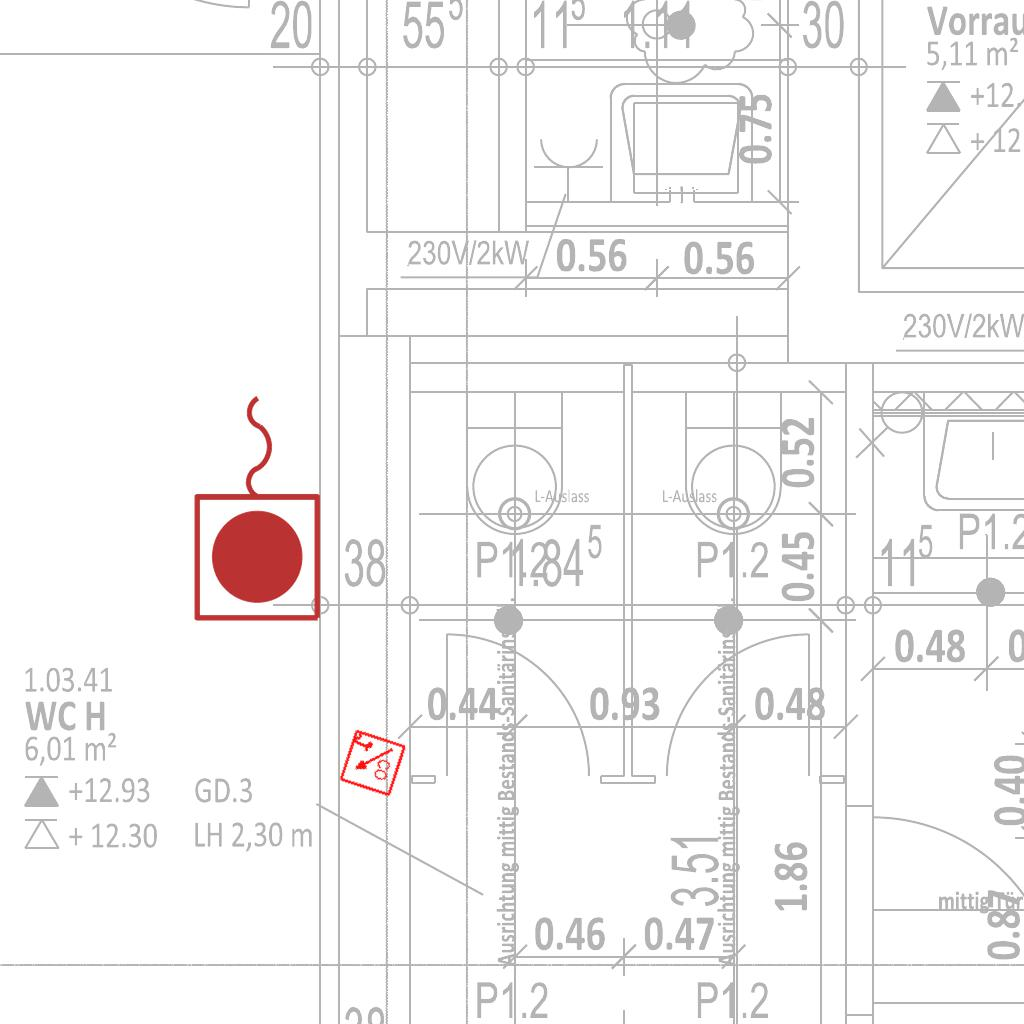ROA_Rauchmelder_optisch_mit_Signalgeber_(Sockelsirene): (336, 727, 408, 799)
Zugtaster: (187, 385, 331, 629)
